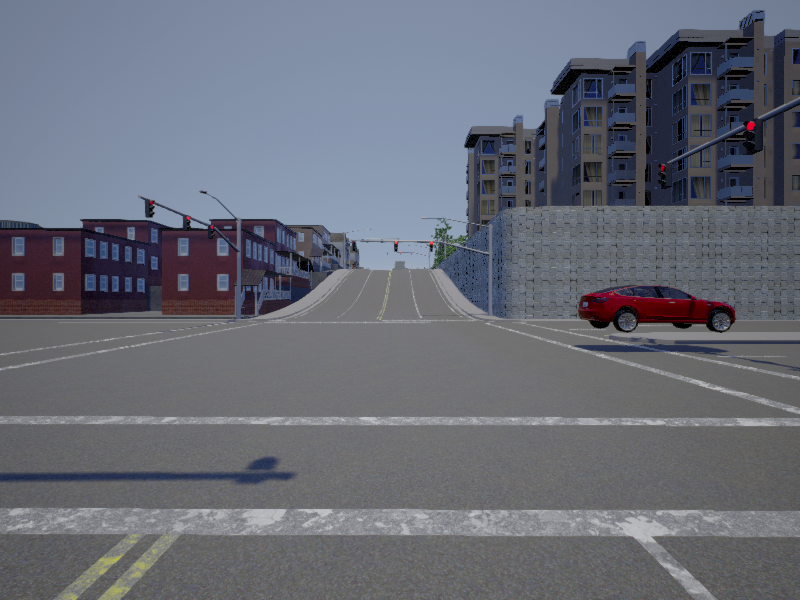Attacker: (579, 285, 736, 332)
